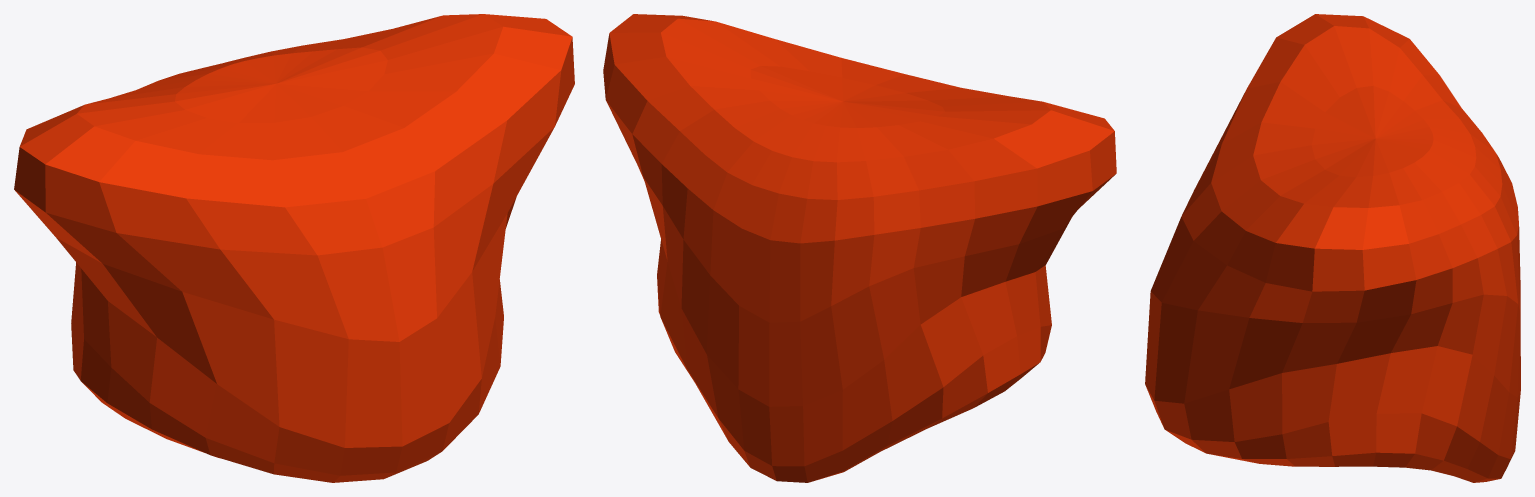
File: torso.glb
The picture shows the model from 3 angles, left to right: view 1: azimuth 30°, elevation 25°; view 2: azimuth 150°, elevation 25°; view 3: azimuth 270°, elevation 25°; orthographic projection. The views are drawn at different scales.
Visible parts, largest first — view 1: torso-1.001; view 2: torso-1.001; view 3: torso-1.001.
Boxes of the visible parts, <box> form: torso-1.001: <box>14,14,574,482</box>; torso-1.001: <box>603,14,1116,482</box>; torso-1.001: <box>1145,14,1520,482</box>.
Size of the model in its own units: 0.9923 by 0.6923 by 0.6619.
